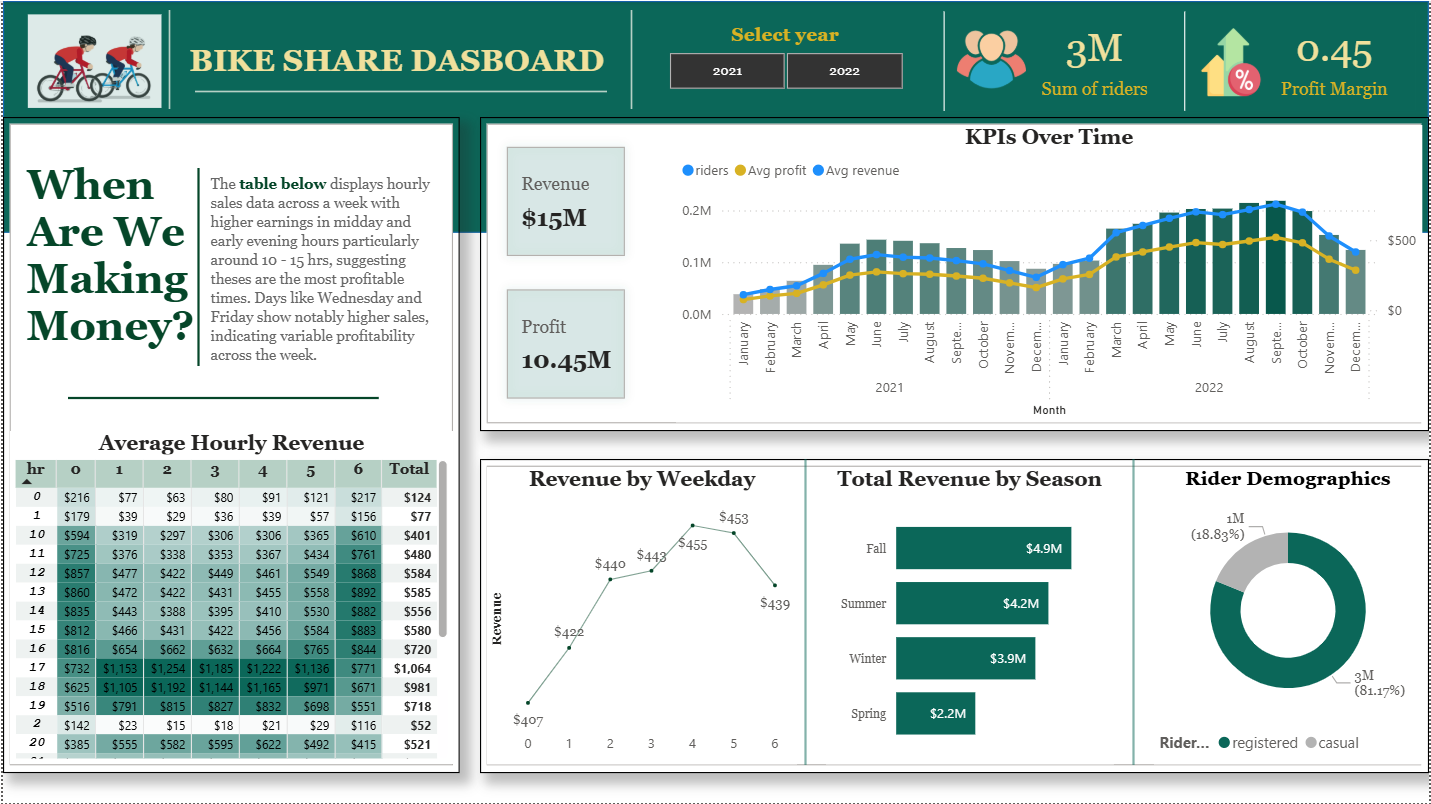

What the dashboard file says about the page in this screenshot:
{"tool":"powerbi","page":{"name":"Page 1","canvas":[1280,720],"ordinal":0},"visuals":[{"type":"shape","box":[0,0,1280,208.1],"z":0},{"type":"cardVisual","fields":{"Data":["Sum(Query1.profit)"]},"box":[0,104.1,410.3,588.9],"z":1000},{"type":"cardVisual","fields":{"Data":["Sum(Query1.profit)"]},"box":[428.2,104.1,852,281.9],"z":2000},{"type":"cardVisual","fields":{"Data":["Sum(Query1.profit)"]},"box":[428.2,411.2,852,281.9],"z":3000},{"type":"lineClusteredColumnComboChart","title":"KPIs Over Time","fields":{"Category":["Query1.dteday.Variation.Date Hierarchy.Year","Query1.dteday.Variation.Date Hierarchy.Month","Query1.dteday.Variation.Date Hierarchy.Day"],"Y":["Sum(Query1.riders)"],"Y2":["Avg(Query1.profit)","Avg(Query1.revenue)"]},"box":[604.2,111.3,669.7,266.6],"z":4000},{"type":"donutChart","title":"Rider Demographics","fields":{"Category":["Query1.rider_type"],"Y":["Sum(Query1.riders)"]},"box":[1033.3,418.4,240.6,266.6],"z":5000},{"type":"barChart","title":"Total Revenue by Season","fields":{"Y":["Sum(Query1.revenue)"],"Category":["Query1.Season Name"]},"box":[738.9,418.4,257.7,266.6],"z":6000},{"type":"shape","box":[996.5,411.2,36.8,274.7],"z":7000},{"type":"cardVisual","fields":{"Data":["Sum(Query1.revenue)","Sum(Query1.profit)"]},"box":[436.3,114.9,138.3,259.5],"z":8000},{"type":"pivotTable","title":"Average Hourly Revenue","fields":{"Rows":["Query1.hr"],"Values":["Avg(Query1.revenue)"],"Columns":["Query1.weekday"]},"box":[6.3,386,397.7,299],"z":9000},{"type":"cardVisual","fields":{"Data":["Sum(Query1.profit)"]},"box":[6.3,0,156.2,96.1],"z":10000},{"type":"cardVisual","fields":{"Data":["Sum(Query1.riders)","Query1.Profit Margin"]},"box":[839.4,4.5,434.5,99.7],"z":11000},{"type":"slicer","title":"Select year","fields":{"Values":["Query1.year"]},"box":[572.8,19.8,258.6,66.4],"z":12000},{"type":"cardVisual","title":"BIKE SHARE DASBOARD","fields":{"Data":["Sum(Query1.revenue)"]},"box":[162.5,36.8,388.7,35],"z":12001},{"type":"lineChart","title":"Revenue by Weekday","fields":{"Category":["Query1.weekday"],"Y":["Avg(Query1.revenue)"]},"box":[434.5,418.4,278.3,266.6],"z":12002},{"type":"shape","box":[702,411.2,36.8,274.7],"z":12003},{"type":"textbox","box":[181.3,149.9,211,188.5],"z":12004},{"type":"textbox","box":[16.2,139.2,164.3,220.8],"z":12005},{"type":"shape","box":[162.5,149.9,26,177.8],"z":12006},{"type":"shape","box":[58.4,338.5,279.2,35.9],"z":12007},{"type":"shape","box":[551.2,8.1,26,88.9],"z":12008},{"type":"shape","box":[136.5,8.1,26,88.9],"z":12009},{"type":"shape","box":[172.4,36.8,369.9,88.9],"z":12010}]}

Visuals, with their boxes in screenshot pixels (x1, y1, x2, y2), scaled from the page's 1280x720 canvas onto the 1431x804 screenshot:
shape: crop(0, 0, 1430, 232)
cardVisual - Sum(Query1.profit): crop(0, 116, 459, 774)
cardVisual - Sum(Query1.profit): crop(479, 116, 1430, 431)
cardVisual - Sum(Query1.profit): crop(479, 459, 1430, 774)
"KPIs Over Time" lineClusteredColumnComboChart: crop(675, 124, 1424, 422)
"Rider Demographics" donutChart: crop(1155, 467, 1424, 765)
"Total Revenue by Season" barChart: crop(826, 467, 1114, 765)
shape: crop(1114, 459, 1155, 766)
cardVisual - Sum(Query1.revenue) x Sum(Query1.profit): crop(488, 128, 642, 418)
"Average Hourly Revenue" pivotTable: crop(7, 431, 452, 765)
cardVisual - Sum(Query1.profit): crop(7, 0, 182, 107)
cardVisual - Sum(Query1.riders) x Query1.Profit Margin: crop(938, 5, 1424, 116)
"Select year" slicer: crop(640, 22, 929, 96)
"BIKE SHARE DASBOARD" cardVisual: crop(182, 41, 616, 80)
"Revenue by Weekday" lineChart: crop(486, 467, 797, 765)
shape: crop(785, 459, 826, 766)
textbox: crop(203, 167, 439, 378)
textbox: crop(18, 155, 202, 402)
shape: crop(182, 167, 211, 366)
shape: crop(65, 378, 377, 418)
shape: crop(616, 9, 645, 108)
shape: crop(153, 9, 182, 108)
shape: crop(193, 41, 606, 140)
